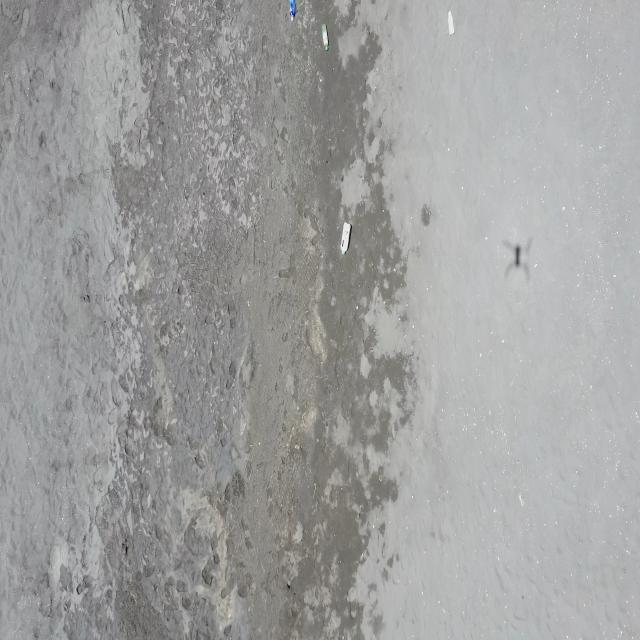plastic-bottle: (341, 222, 354, 256), (446, 10, 456, 37), (322, 22, 330, 52), (289, 0, 297, 21)
